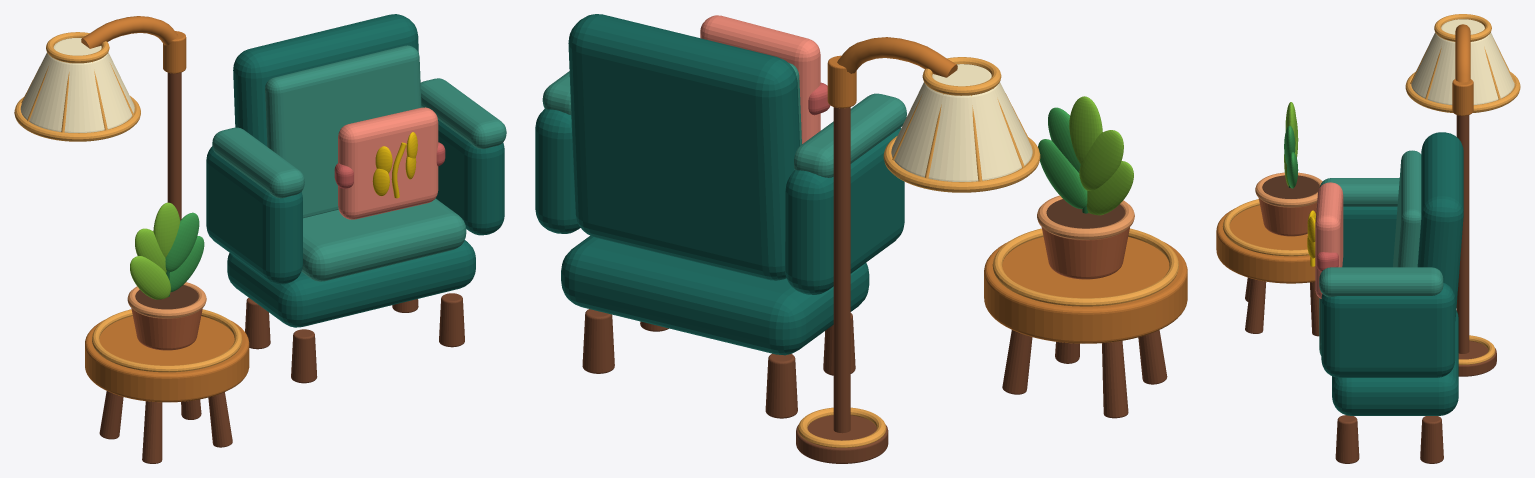
Rendered from reading-corner.glb.
3 views of the same model, side by side, from view 1: azimuth 30°, elevation 25°; view 2: azimuth 150°, elevation 25°; view 3: azimuth 270°, elevation 25° (orthographic). The views are drawn at different scales.
Parts seen in each view (by area): view 1: Backrest_Face, Chair_Base, Table_Top, Seat_Cushion, Armrest_L, Backrest, Pillow_Core, Lamp_Shade, Armrest_R, Chair, Armrest_Cap_L, Armrest_Cap_R (+17 smaller); view 2: Backrest, Chair_Base, Table_Top, Armrest_L, Lamp_Shade, Lamp_Pole, Chair, Armrest_R, Pillow_Core, Armrest_Cap_L, Plant_Pot, Table_Top_Rim (+17 smaller); view 3: Armrest_R, Backrest, Chair_Base, Lamp_Shade, Table_Top, Armrest_Cap_R, Armrest_L, Backrest_Face, Lamp_Pole, Pillow_Core, Chair, Armrest_Cap_L (+15 smaller).
Part boxes in pixels (left/top/right/bottom): Backrest_Face: left=265, top=45, right=421, bottom=218; Chair_Base: left=227, top=240, right=475, bottom=327; Table_Top: left=85, top=316, right=249, bottom=402; Seat_Cushion: left=301, top=198, right=466, bottom=281; Armrest_L: left=206, top=146, right=302, bottom=284; Backrest: left=233, top=14, right=418, bottom=146; Pillow_Core: left=338, top=107, right=438, bottom=219; Lamp_Shade: left=20, top=38, right=134, bottom=132; Armrest_R: left=435, top=120, right=504, bottom=235; Chair: left=245, top=293, right=464, bottom=383; Armrest_Cap_L: left=212, top=127, right=304, bottom=198; Armrest_Cap_R: left=420, top=78, right=506, bottom=148; Backrest: left=568, top=14, right=799, bottom=280; Chair_Base: left=561, top=235, right=869, bottom=355; Table_Top: left=984, top=237, right=1187, bottom=343; Armrest_L: left=785, top=128, right=904, bottom=294; Lamp_Shade: left=891, top=64, right=1032, bottom=181; Lamp_Pole: left=833, top=107, right=850, bottom=433; Chair: left=582, top=309, right=855, bottom=418; Armrest_R: left=535, top=109, right=580, bottom=233; Pillow_Core: left=700, top=15, right=820, bottom=143; Armrest_Cap_L: left=794, top=93, right=906, bottom=177; Plant_Pot: left=1041, top=227, right=1129, bottom=279; Table_Top_Rim: left=992, top=228, right=1178, bottom=306; Armrest_R: left=1321, top=283, right=1455, bottom=377; Backrest: left=1417, top=132, right=1463, bottom=320; Chair_Base: left=1332, top=310, right=1458, bottom=415; Lamp_Shade: left=1411, top=19, right=1514, bottom=104; Table_Top: left=1216, top=205, right=1315, bottom=283; Armrest_Cap_R: left=1319, top=267, right=1443, bottom=296; Armrest_L: left=1342, top=206, right=1397, bottom=267; Backrest_Face: left=1393, top=150, right=1421, bottom=267; Lamp_Pole: left=1456, top=115, right=1469, bottom=353; Pillow_Core: left=1315, top=182, right=1343, bottom=298; Chair: left=1335, top=415, right=1443, bottom=463; Armrest_Cap_L: left=1319, top=178, right=1399, bottom=206.
Size of the model in its own units: 3.22 by 2.42 by 2.16.
